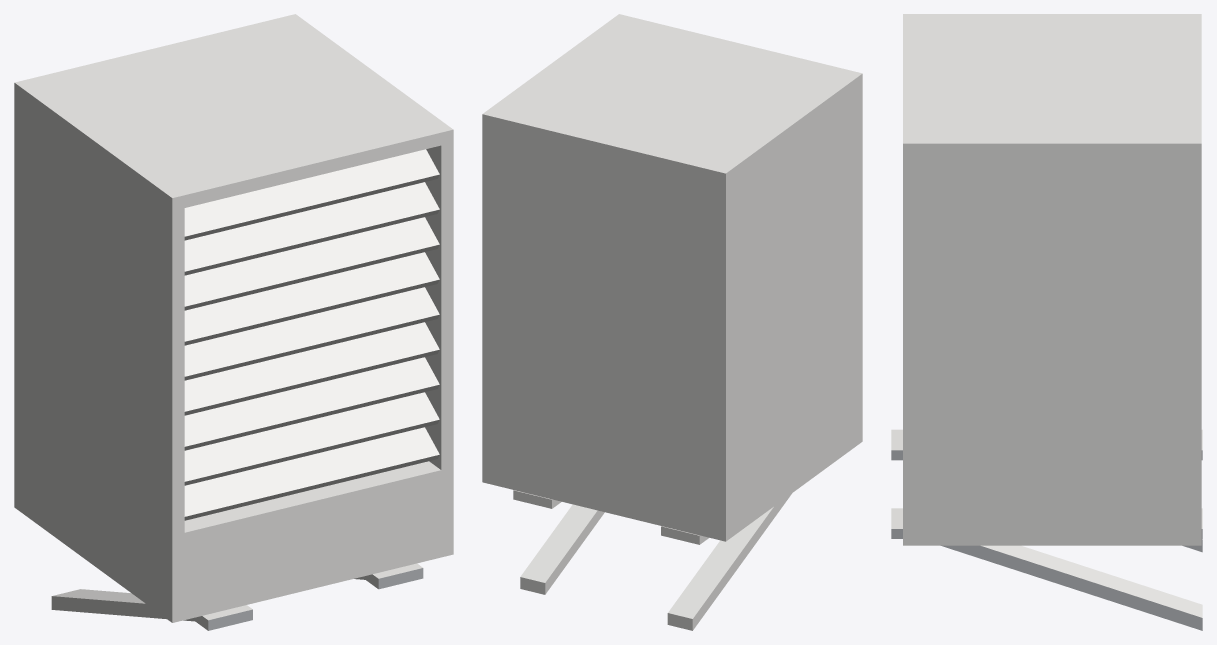
The model's file is SM_airconditioner_04.fbx.
The picture shows the model from 3 angles, left to right: view 1: azimuth 30°, elevation 25°; view 2: azimuth 150°, elevation 25°; view 3: azimuth 270°, elevation 25°; orthographic projection. The views are drawn at different scales.
Parts seen in each view (by area): view 1: Box038; view 2: Box038; view 3: Box038.
Part boxes in pixels (x1,y1,x2,y2): Box038: [14, 14, 453, 630]; Box038: [482, 14, 862, 630]; Box038: [891, 14, 1202, 630].
Bounding box in the file's own units: 16.2 × 16.42 × 29.56.
